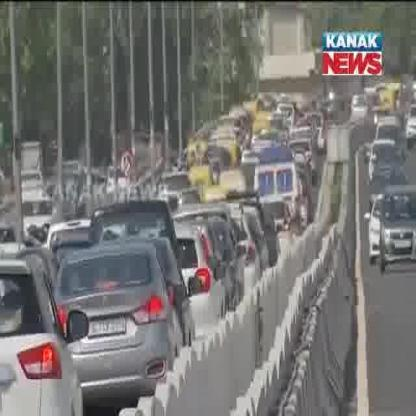priority: (250, 154, 302, 196)
